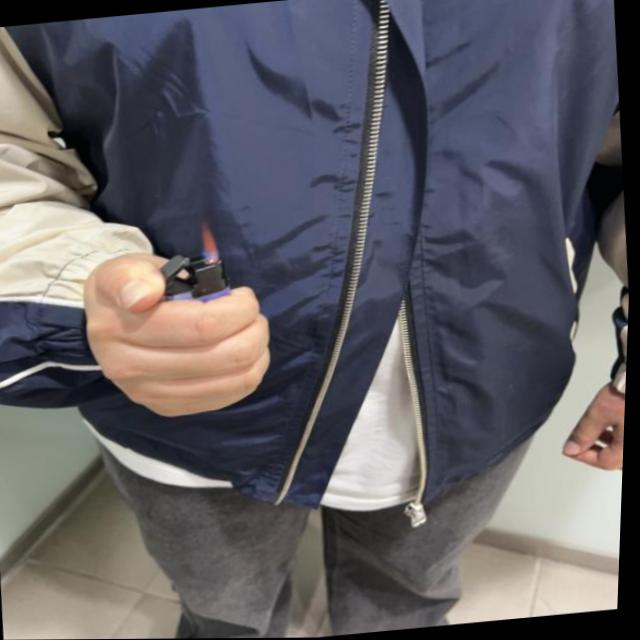Fire: (197, 222, 226, 266)
